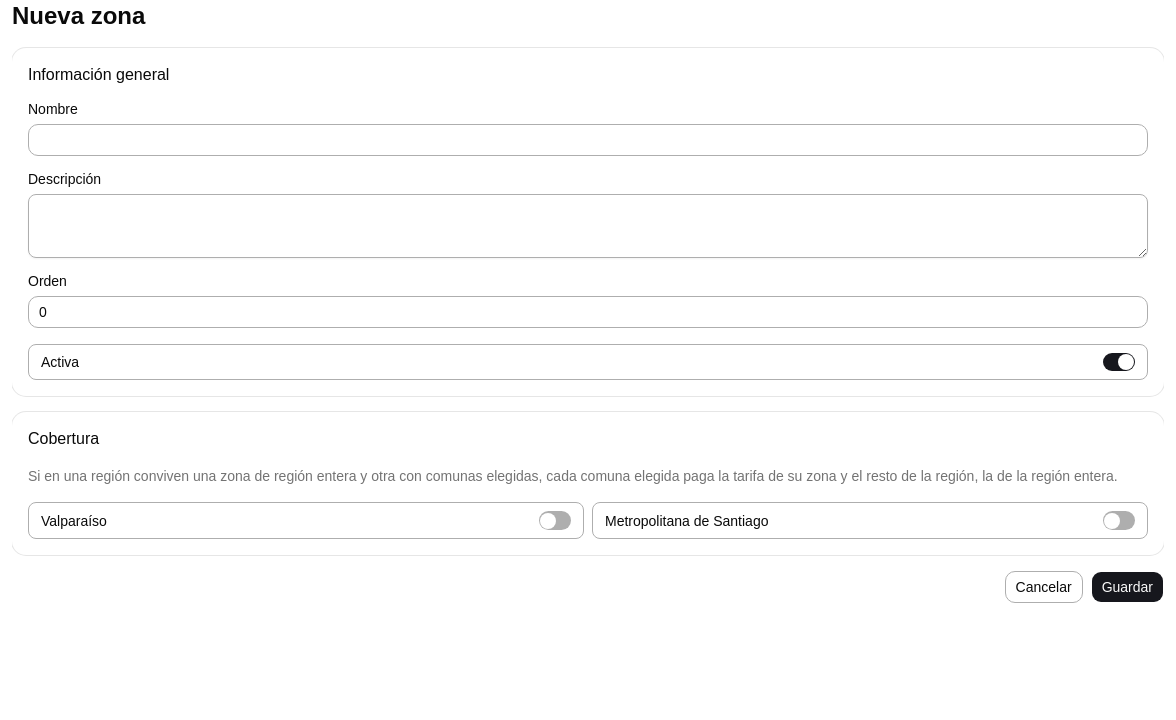
Test: ZoneForm: regiones y comunas del catálogo › refuses a region with «Toda la región» off and no commune picked
This screenshot has width=1176, height=720.
Step 1. Type "Vacía" into the field labelled "Nombre" → (588, 140), box [28, 124, 1148, 156]
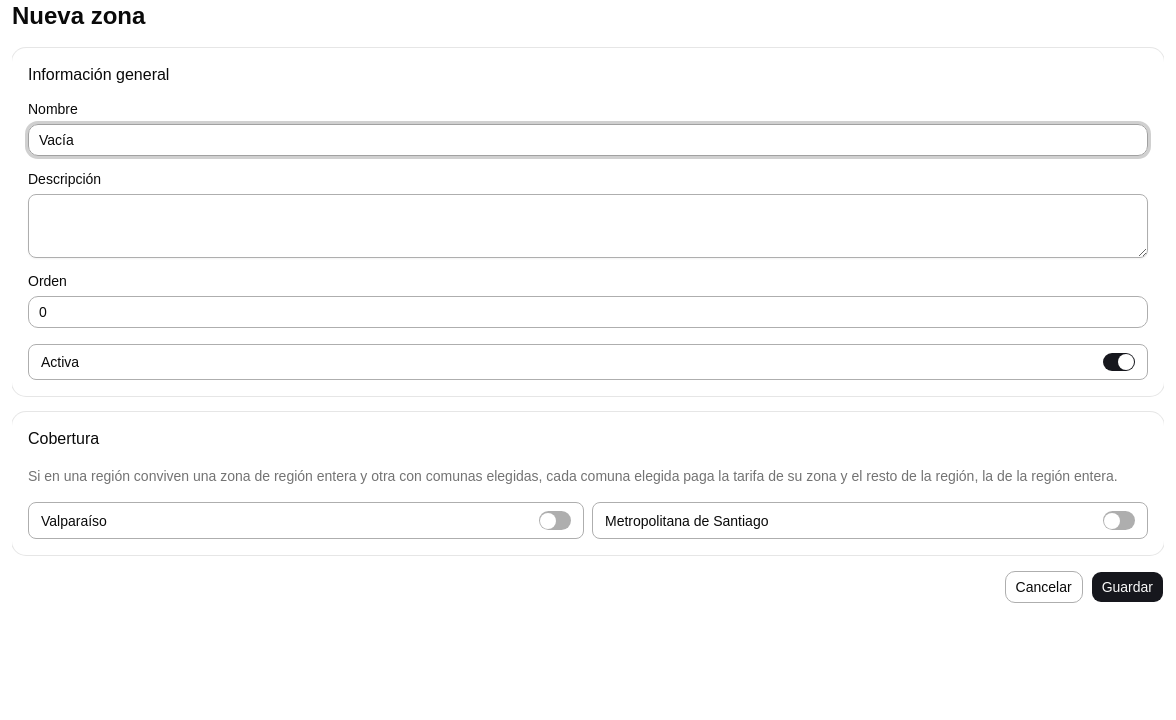
Step 2. Click the switch named "Valparaíso" in the row of "Valparaíso" → (555, 521), box [539, 511, 571, 530]
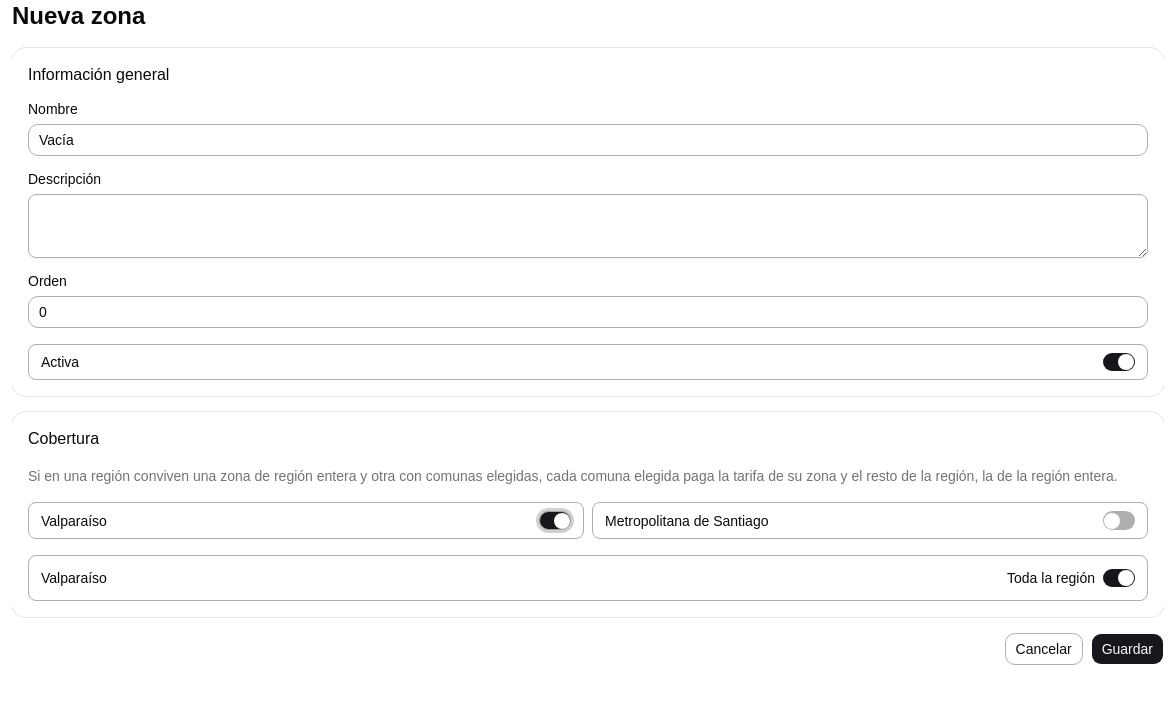
Step 3. Click the switch named "Toda la región Valparaíso" → (1119, 578), box [1103, 569, 1135, 587]
(page scrolled)
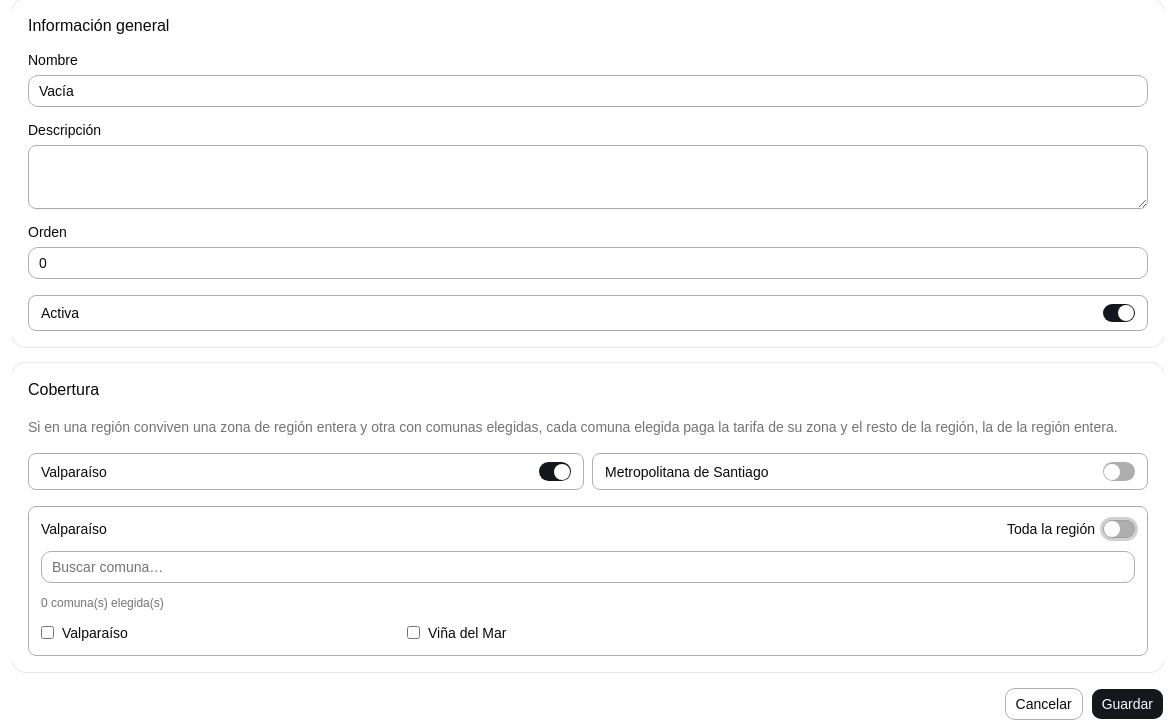
Step 4. Click the button "Guardar" → (1127, 704), box [1091, 688, 1164, 719]
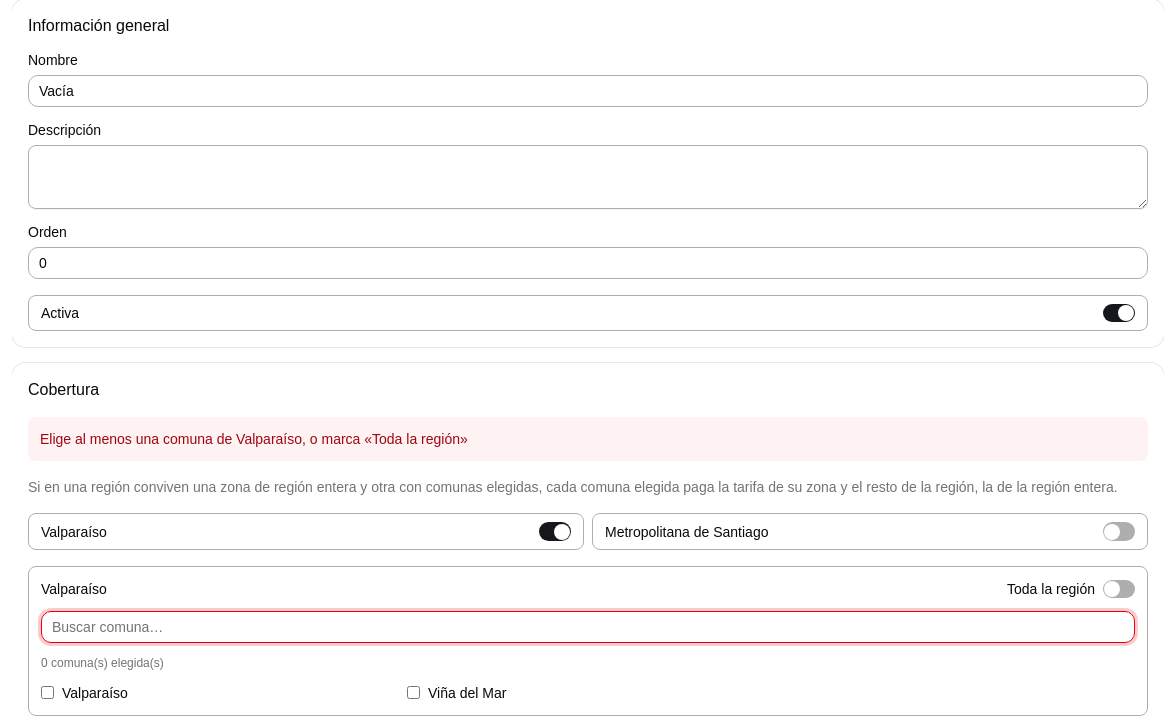
Check: the message reads "Elige al menos una comuna de Valparaíso, o marca «Toda la región»", box [40, 431, 468, 447]
